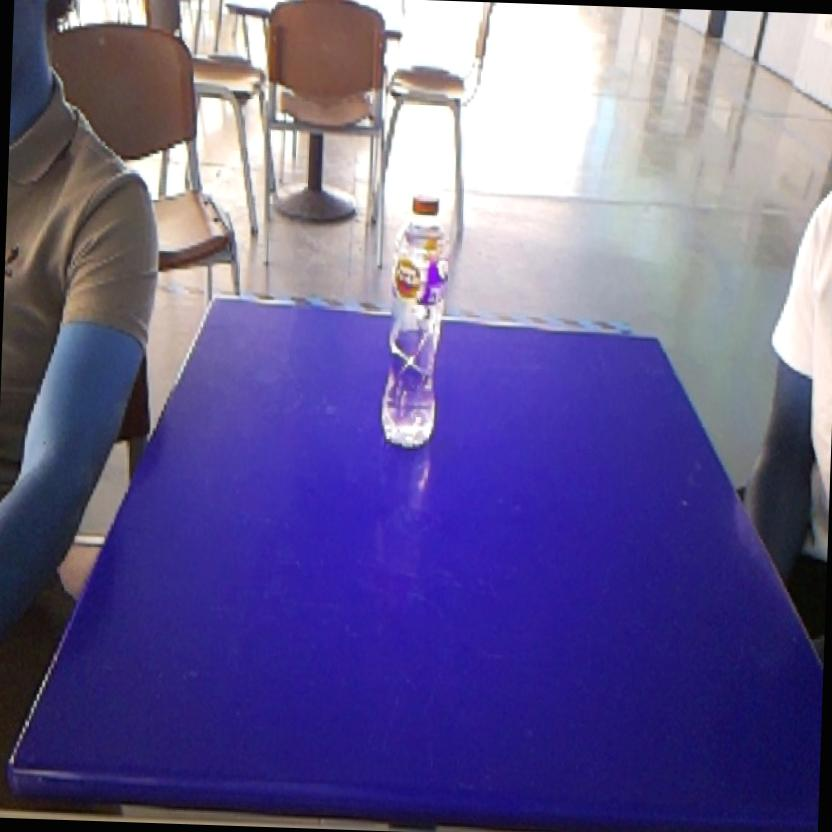good: (374, 184, 461, 461)
